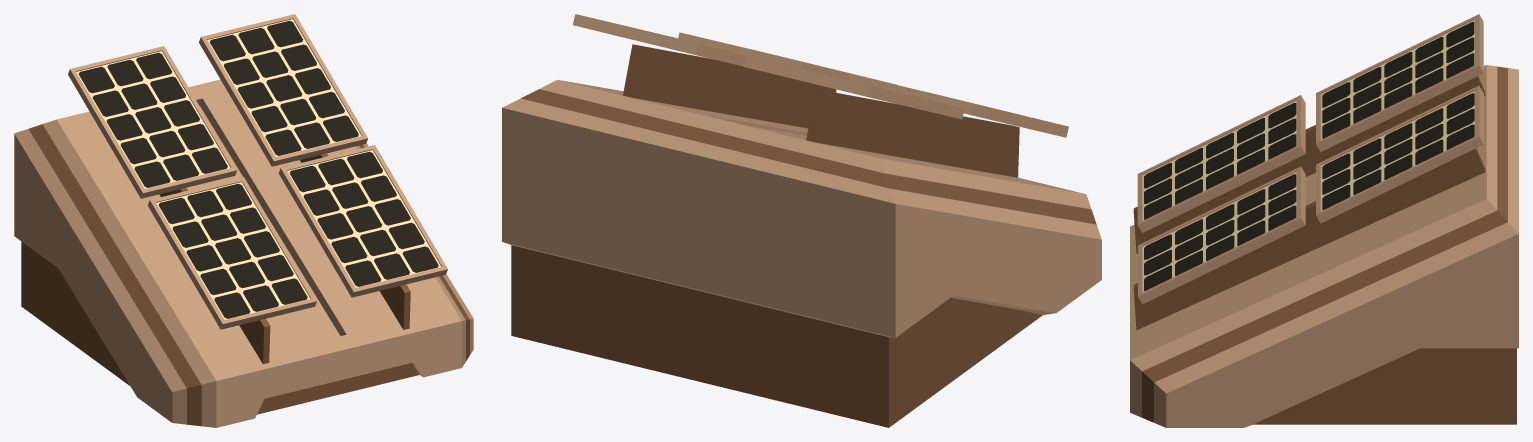
File: quaternius-ultimate-space-solar-panel-structure-transformed.glb
3 views of the same model, side by side, from view 1: azimuth 30°, elevation 25°; view 2: azimuth 150°, elevation 25°; view 3: azimuth 270°, elevation 25° (orthographic). The views are drawn at different scales.
Parts seen in each view (by area): view 1: SolarPanel_Structure; view 2: SolarPanel_Structure; view 3: SolarPanel_Structure.
Boxes of the visible parts, bbox=[...] form: SolarPanel_Structure: bbox=[14, 14, 473, 427]; SolarPanel_Structure: bbox=[502, 14, 1101, 427]; SolarPanel_Structure: bbox=[1130, 14, 1518, 427].
Size of the model in its own units: 4 by 3.07 by 4.
1 material, 1 textured.
